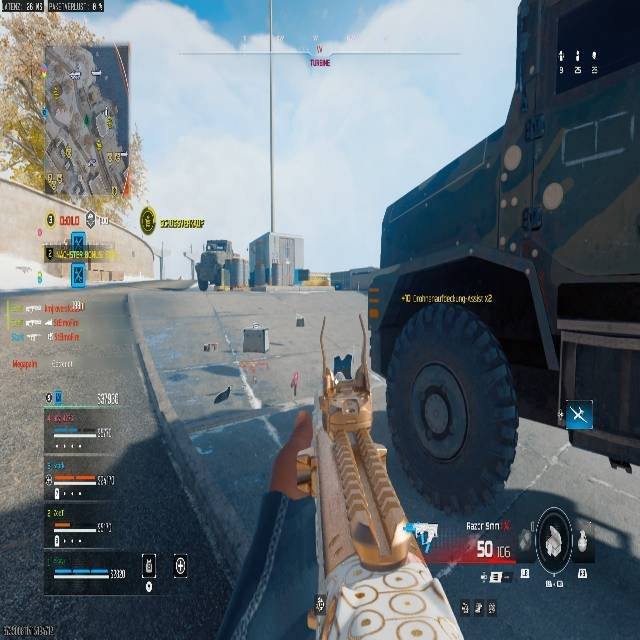player: (290, 371, 298, 395)
